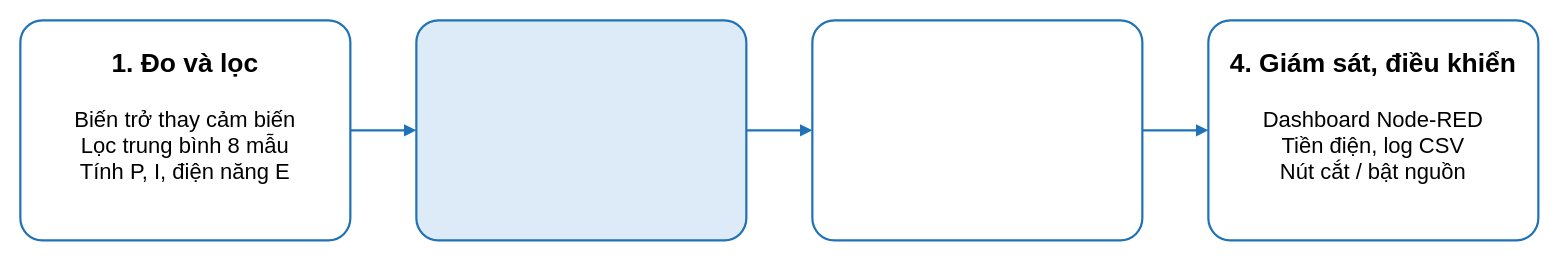
Some shapes in this 1558 by 260 pixel diagram are drawn without their labels. Each missing label, with the box of its shape:
2. Bảo vệ tại chỗ 3 mức NORMAL, WARNING, CRITICAL Ngắt relay sau 3 s quá tải: (415, 19, 747, 241)
3. Truyền MQTT telemetry mỗi 2 s alarm, status (LWT) control nhận lệnh: (811, 19, 1143, 241)
